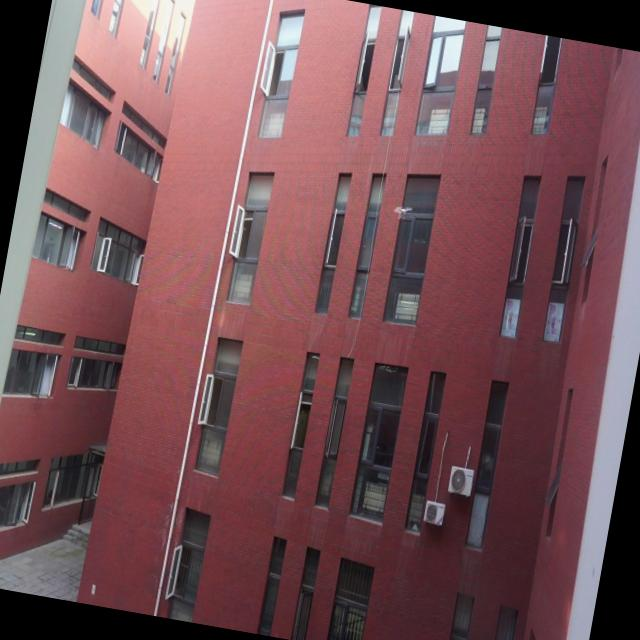drone: (390, 199, 414, 223)
